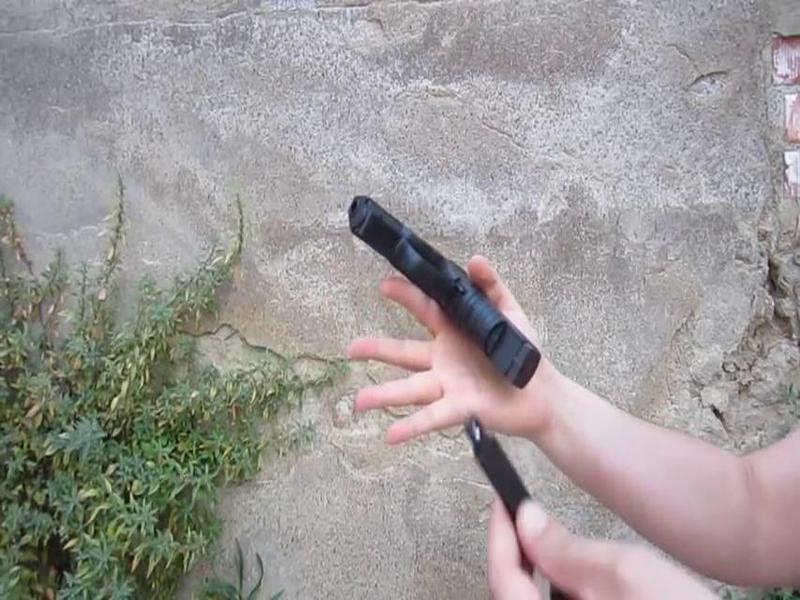Pistola: (332, 191, 536, 388)
